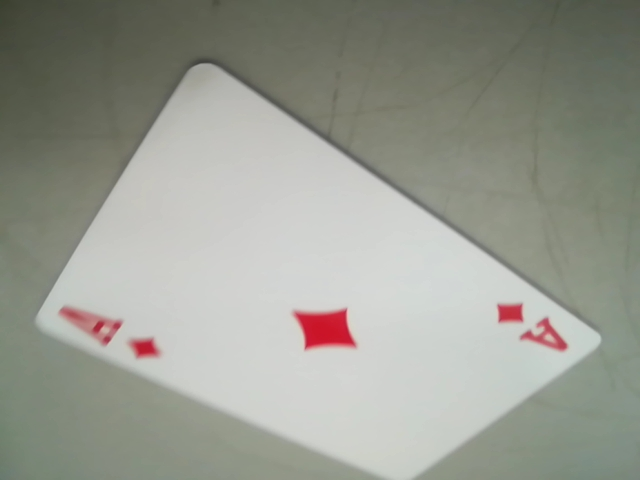fk a: (48, 300, 174, 365), (492, 292, 577, 361)
